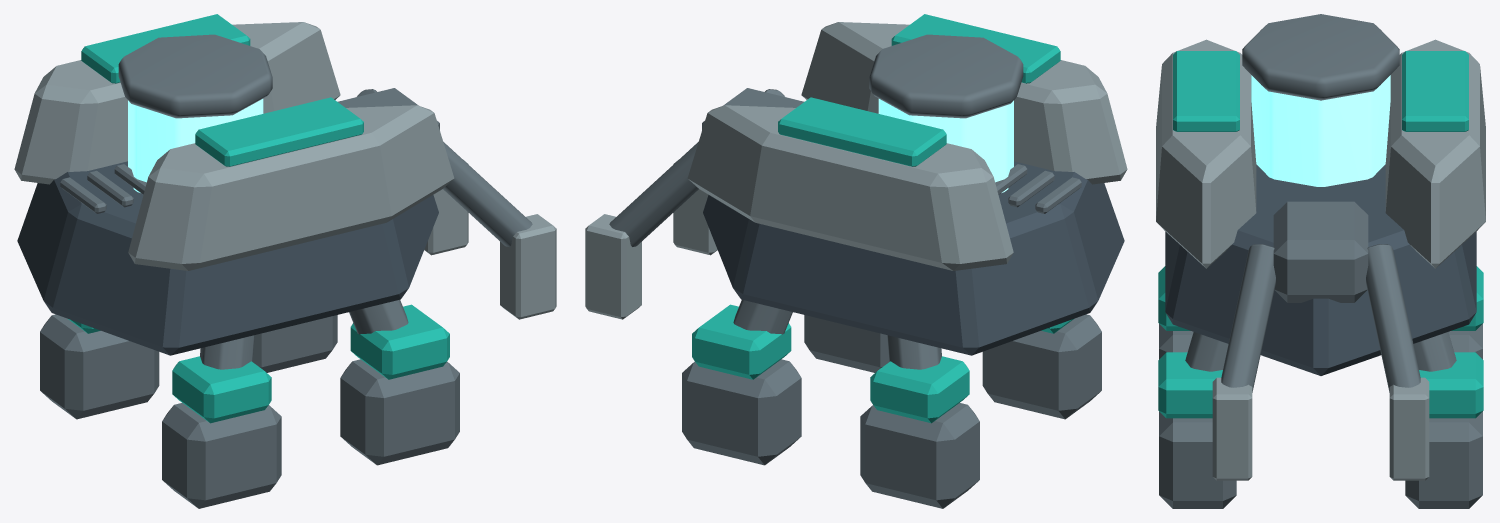
The model's file is SM_Drudge.fbx.
3 views of the same model, side by side, from view 1: azimuth 30°, elevation 25°; view 2: azimuth 150°, elevation 25°; view 3: azimuth 270°, elevation 25° (orthographic).
Visible parts, largest first — view 1: SM_Drudge; view 2: SM_Drudge; view 3: SM_Drudge.
Part boxes in pixels (x1,y1,x2,y2): SM_Drudge: (14, 14, 556, 508); SM_Drudge: (585, 14, 1127, 508); SM_Drudge: (1156, 14, 1485, 508).
Size of the model in its own units: 32 by 19.91 by 25.
